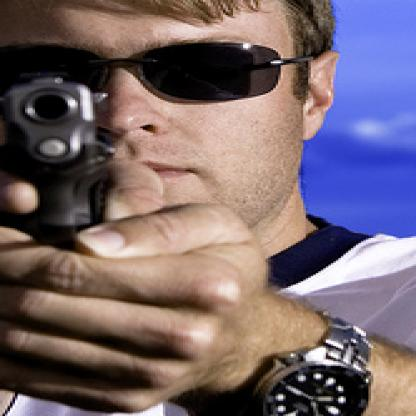gun: (0, 73, 136, 297)
